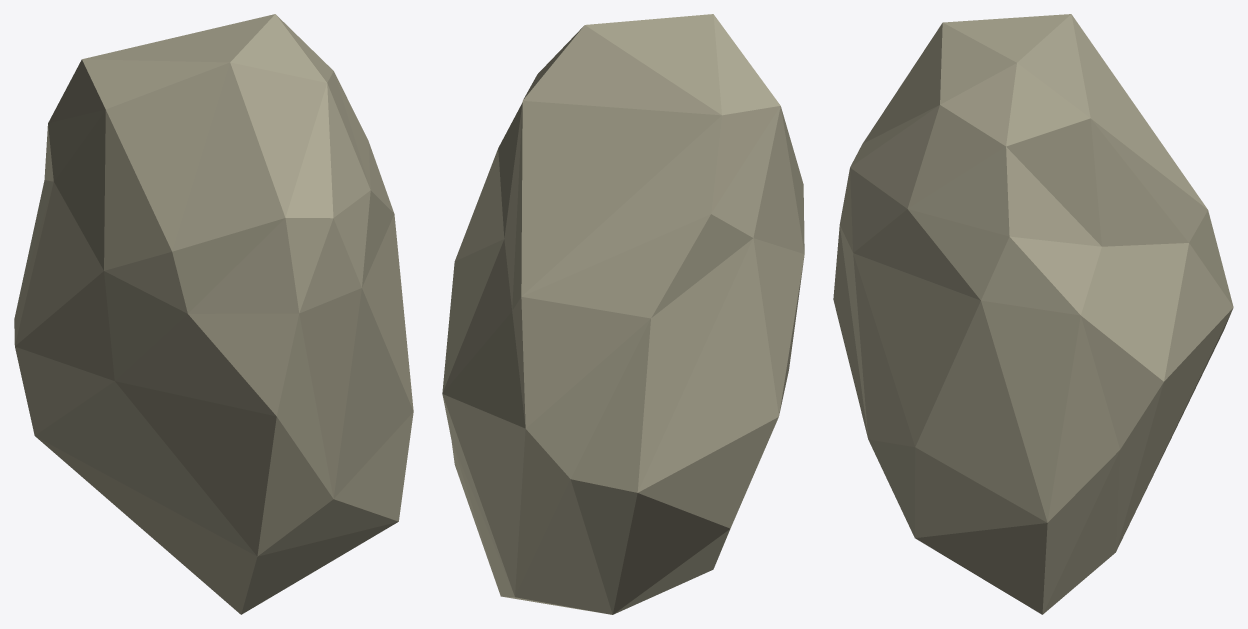
File: RockR4.fbx
3 views of the same model, side by side, from view 1: azimuth 30°, elevation 25°; view 2: azimuth 150°, elevation 25°; view 3: azimuth 270°, elevation 25° (orthographic). The views are drawn at different scales.
Parts seen in each view (by area): view 1: RockR4; view 2: RockR4; view 3: RockR4.
Boxes of the visible parts, left/top/right/bottom form: RockR4: left=14, top=14, right=413, bottom=614; RockR4: left=442, top=14, right=804, bottom=614; RockR4: left=833, top=14, right=1233, bottom=614.
Size of the model in its own units: 239 by 387 by 268.
